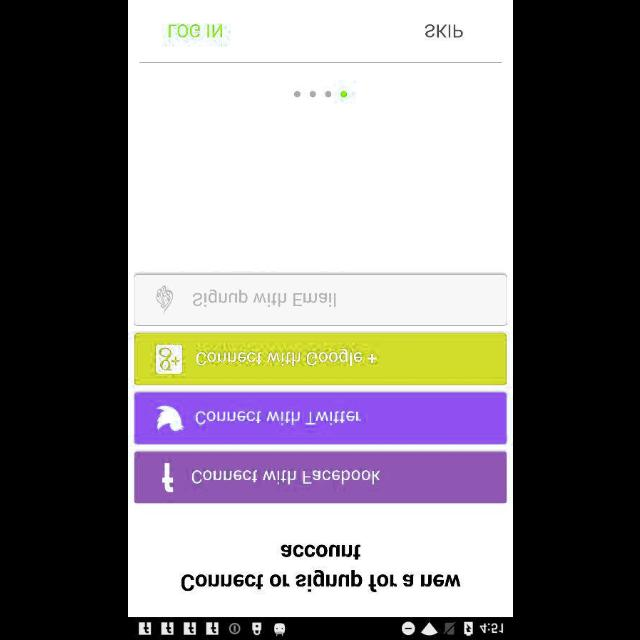pageindicator: (293, 90, 347, 98)
text: (180, 544, 460, 592), (168, 23, 222, 39), (423, 24, 462, 38)
textbutton: (134, 274, 506, 326), (134, 333, 506, 385), (134, 392, 506, 444), (134, 451, 506, 503)
uppertaskbar: (128, 617, 512, 639)
